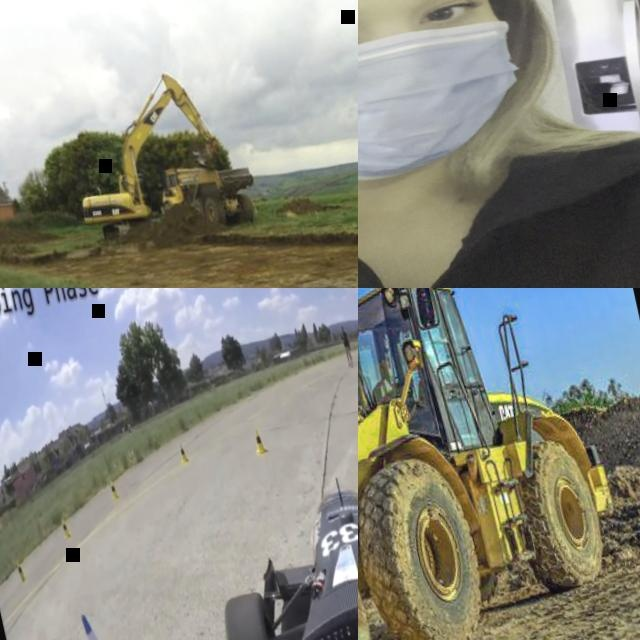Mask: (358, 12, 538, 192)
NO-Safety Vest: (358, 99, 640, 288), (340, 332, 349, 348)
Person: (358, 0, 640, 288), (338, 325, 355, 368)
Safety Cone: (77, 605, 114, 640), (251, 428, 269, 461), (58, 514, 75, 544), (174, 442, 190, 469), (106, 477, 120, 503), (15, 558, 27, 584)
machinery: (358, 288, 640, 640), (55, 57, 263, 257)
vehicle: (164, 441, 358, 640)
